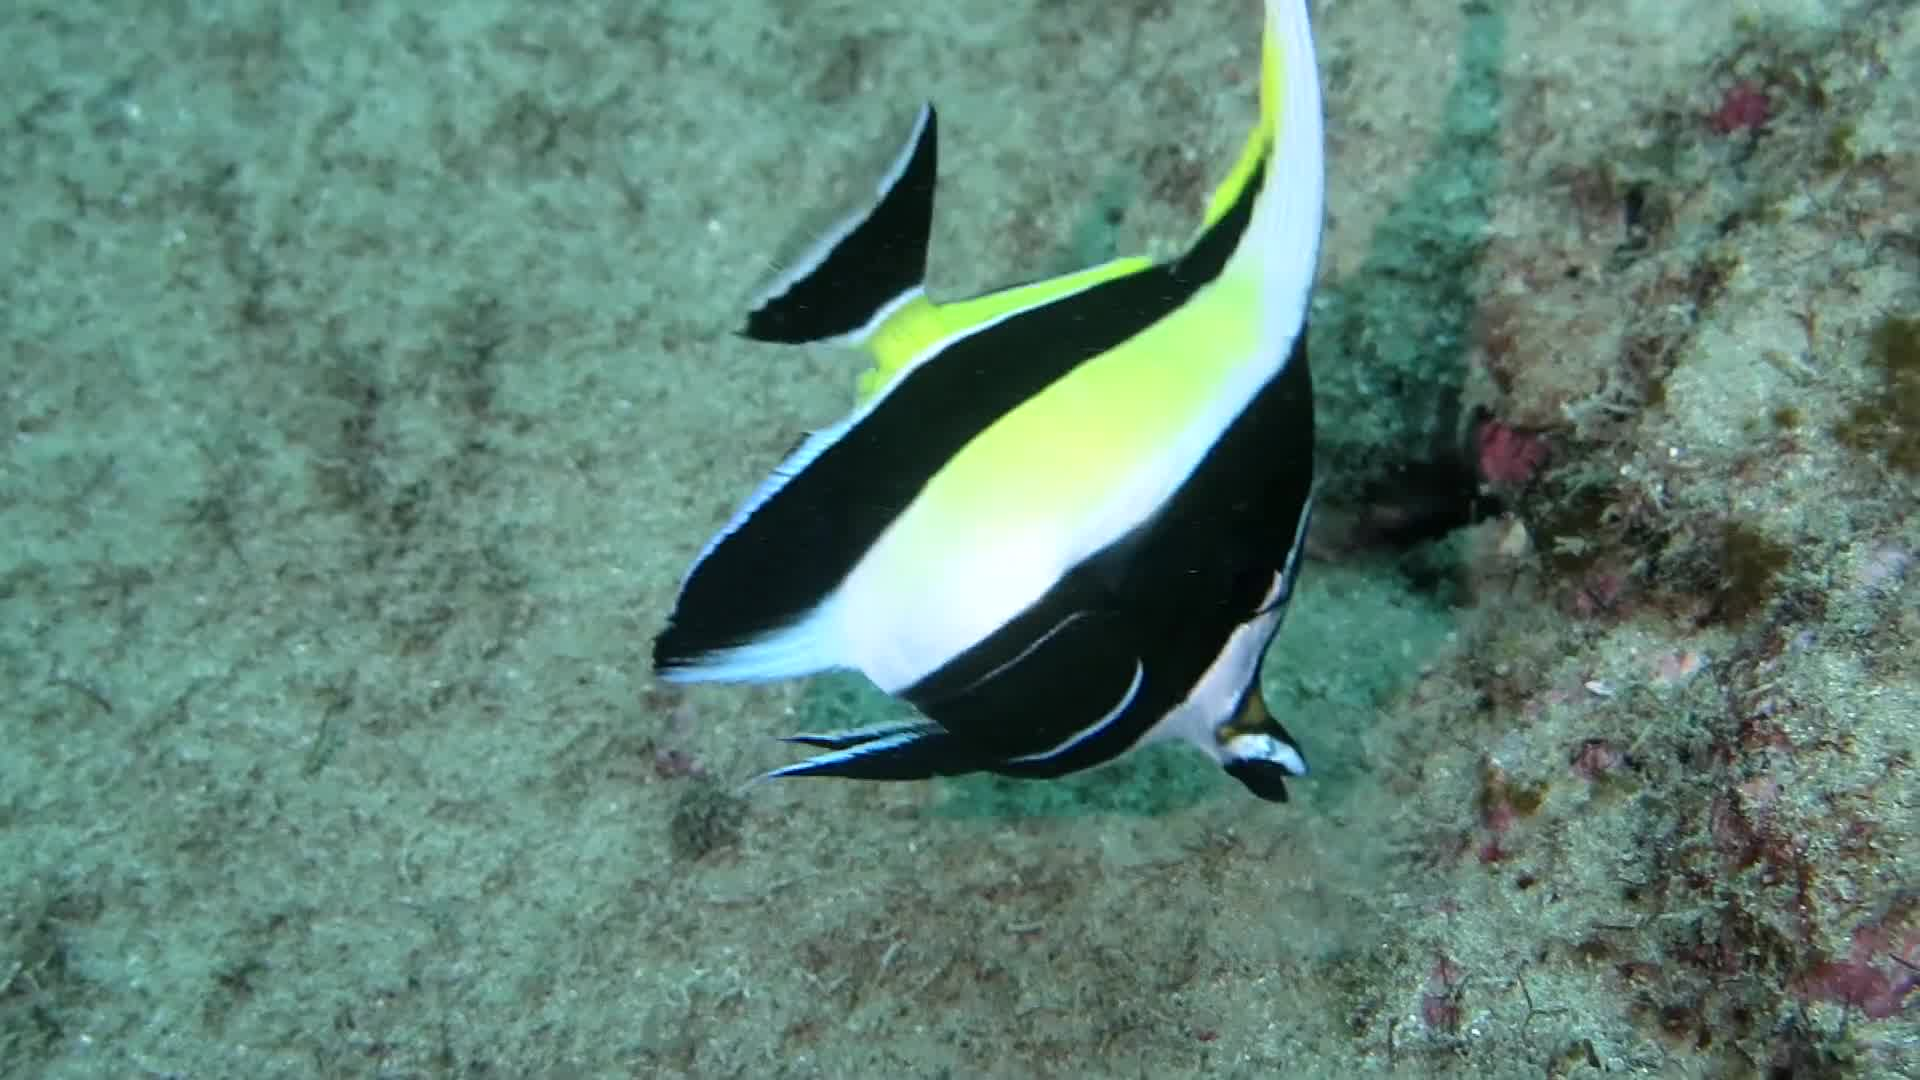Zanclus cornutus: (646, 135, 1375, 856)
